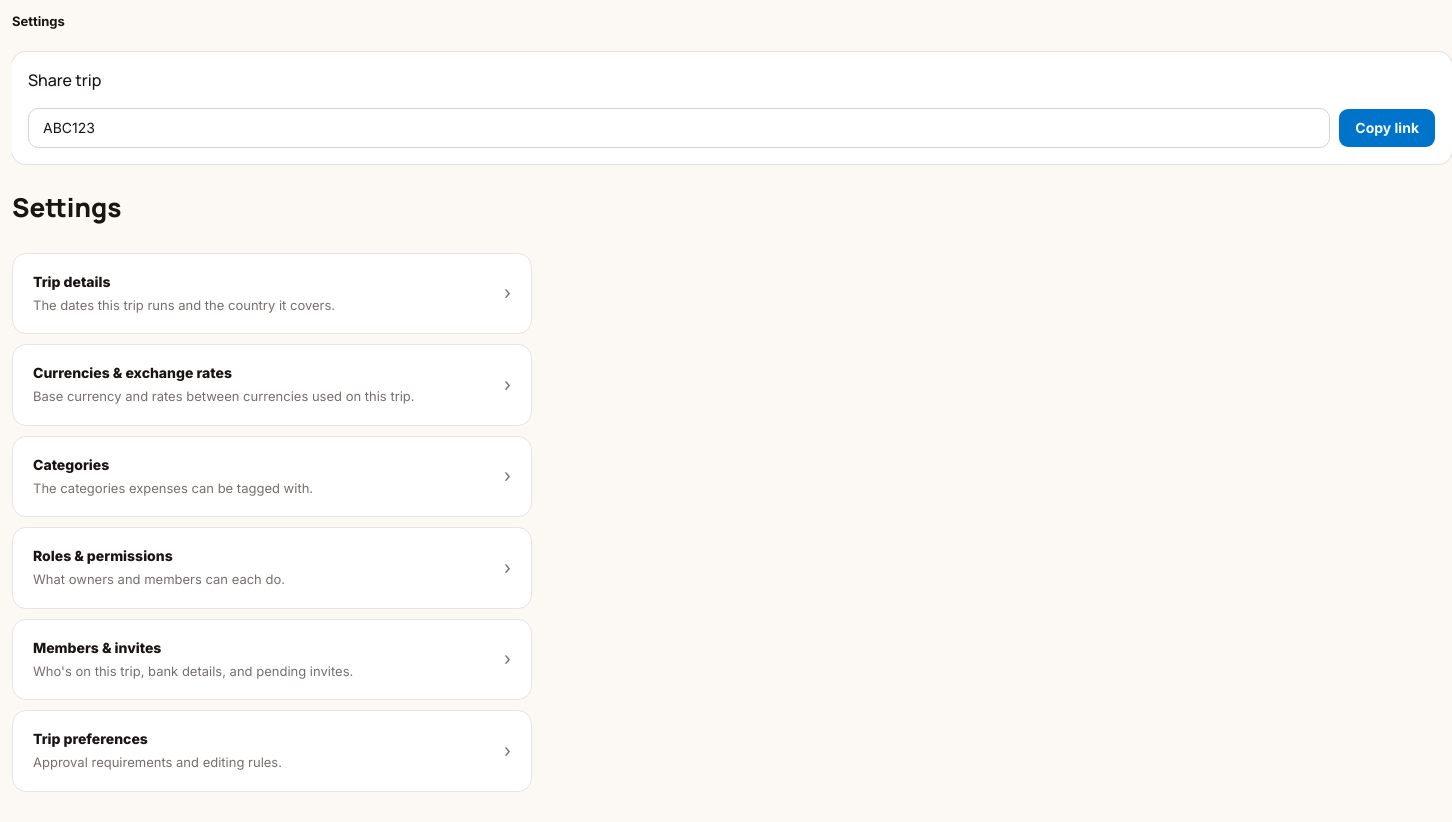
it: SettingsPanel › renders the edit-permission control behind the trip preferences tile
Click the button "Trip preferences Approval requirements and editing rules. ›" at [90, 738], box [12,710,532,792]
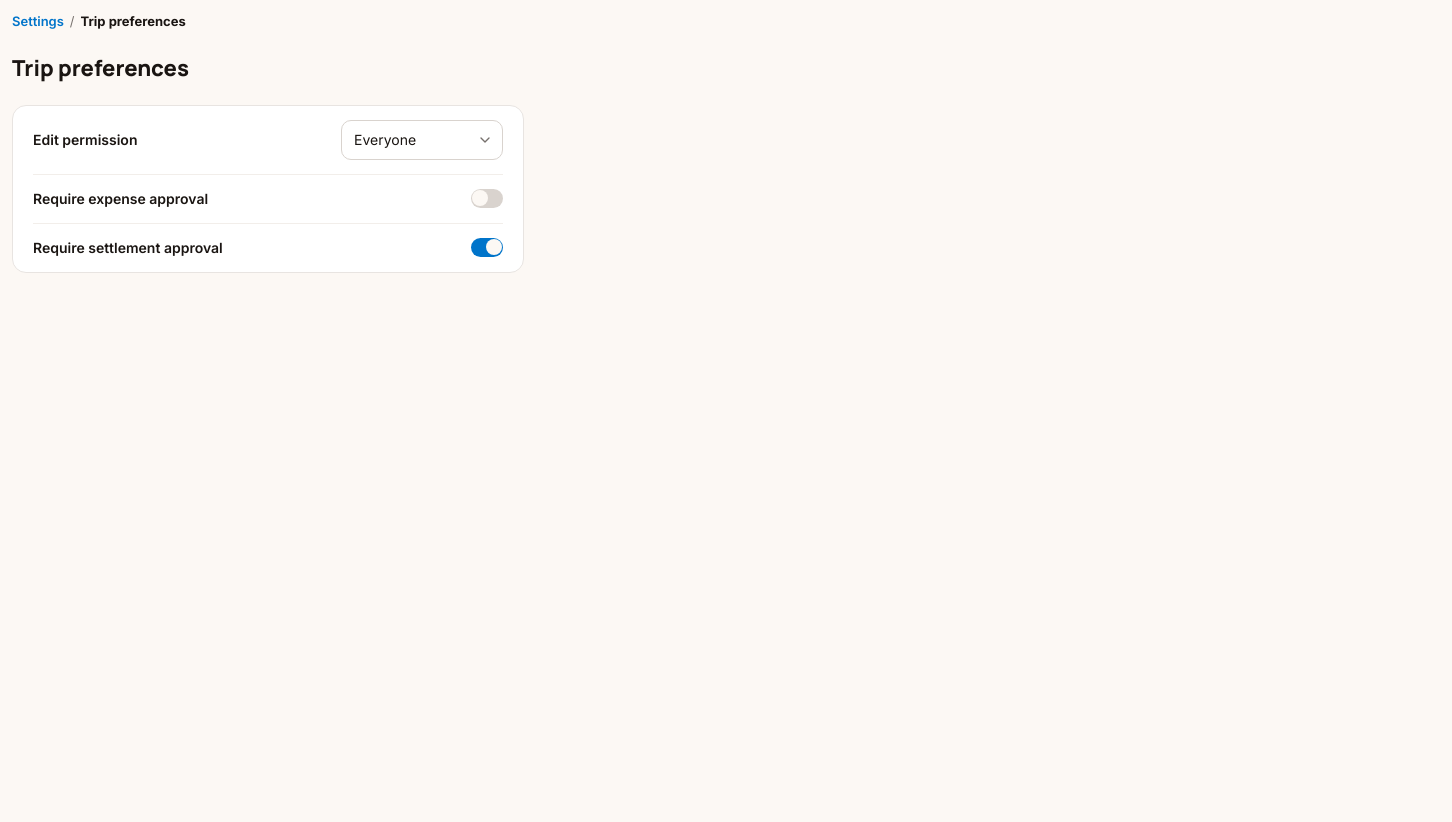
Expected: the dropdown labelled "Edit permission" is shown, [341,120,503,160]
